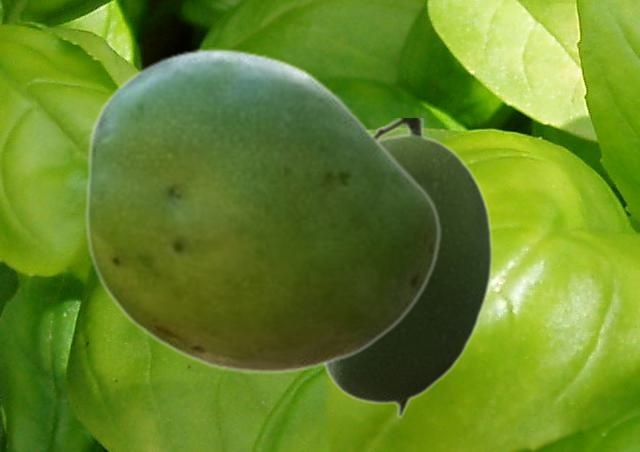green_mango: (84, 47, 440, 374), (321, 118, 492, 418)
